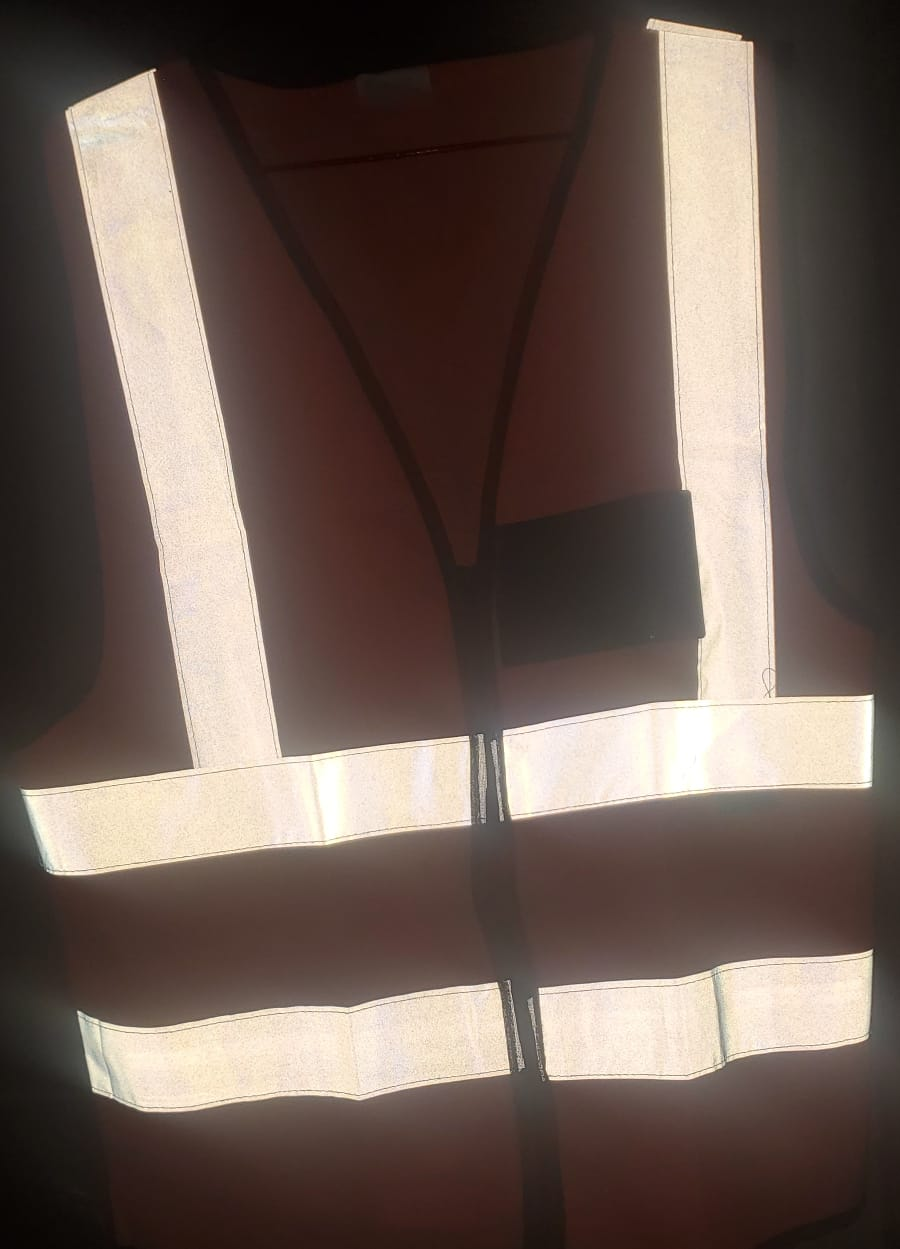vest: (17, 10, 900, 1242)
